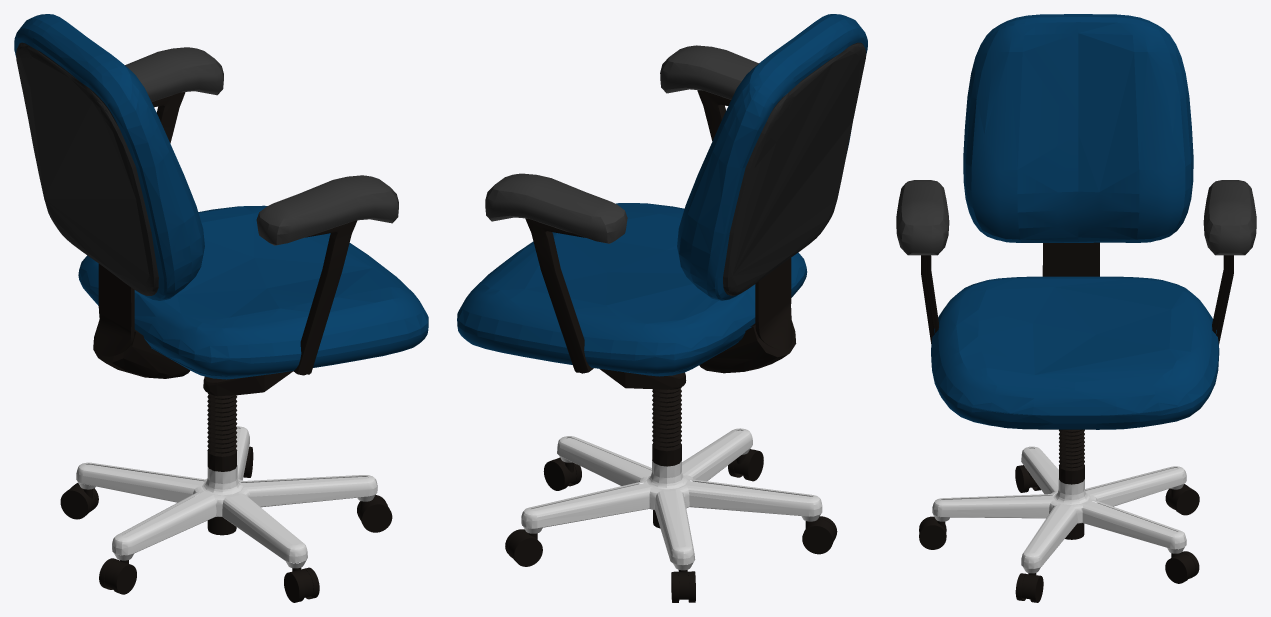
Rendered from HMI_Ergon3_Work_Chair_3D.fbx.
3 views of the same model, side by side, from view 1: azimuth 30°, elevation 25°; view 2: azimuth 150°, elevation 25°; view 3: azimuth 270°, elevation 25° (orthographic). The views are drawn at different scales.
Visible parts, largest first — view 1: HSeat, HBase, HArmPads, HSuppt0, HCasters, HSuppt; view 2: HSeat, HBase, HArmPads, HSuppt0, HCasters, HSuppt; view 3: HSeat, HBase, HArmPads, HSuppt0, HCasters, HSuppt.
Part boxes in pixels (left/top/right/bottom): HSeat: left=14, top=14, right=428, bottom=379; HBase: left=76, top=426, right=377, bottom=568; HArmPads: left=125, top=47, right=398, bottom=245; HSuppt0: left=93, top=264, right=293, bottom=535; HCasters: left=60, top=446, right=392, bottom=602; HSuppt: left=152, top=92, right=357, bottom=375; HSeat: left=457, top=14, right=867, bottom=376; HBase: left=521, top=428, right=822, bottom=570; HArmPads: left=485, top=45, right=758, bottom=243; HSuppt0: left=600, top=258, right=796, bottom=528; HCasters: left=505, top=449, right=837, bottom=602; HSuppt: left=525, top=90, right=730, bottom=373; HSeat: left=931, top=14, right=1219, bottom=429; HBase: left=932, top=446, right=1186, bottom=573; HArmPads: left=896, top=180, right=1256, bottom=255; HSuppt0: left=1042, top=242, right=1099, bottom=539; HCasters: left=919, top=465, right=1199, bottom=602; HSuppt: left=921, top=255, right=1233, bottom=344.
Bounding box in the file's own units: 71.34 × 113 × 78.87.
